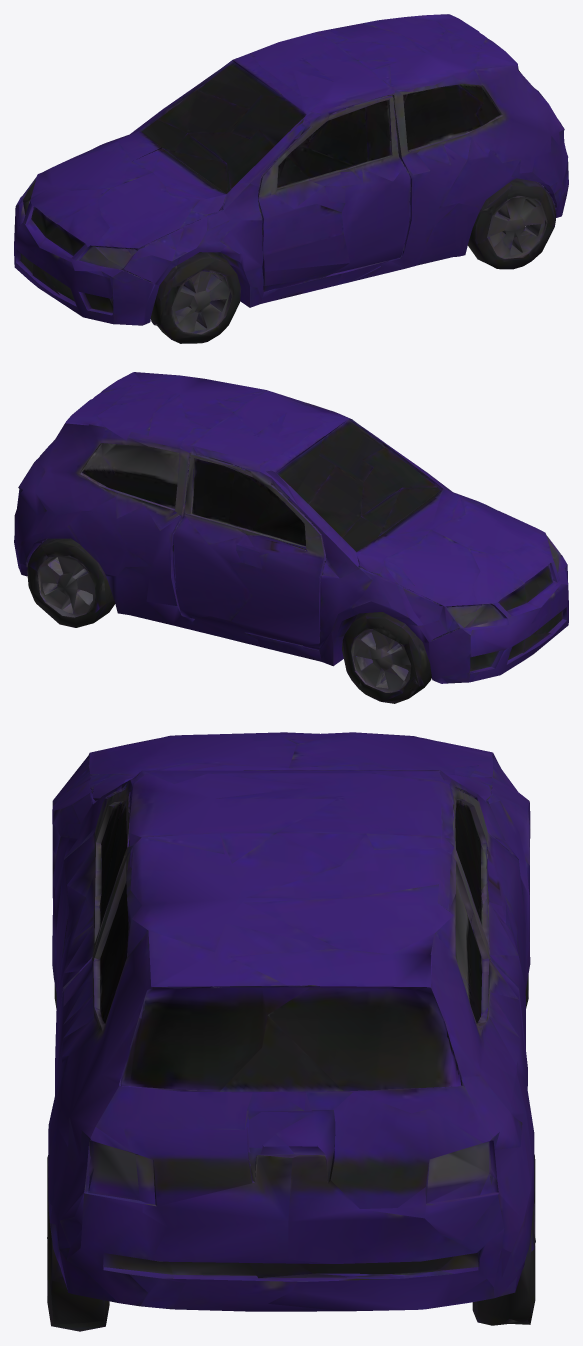
The model's file is voiture.glb.
The picture shows the model from 3 angles, top to bottom: view 1: azimuth 30°, elevation 25°; view 2: azimuth 150°, elevation 25°; view 3: azimuth 270°, elevation 25°; orthographic projection. The views are drawn at different scales.
Size of the model in its own units: 1.9 by 0.7145 by 0.8144.
1 material, 1 textured.
